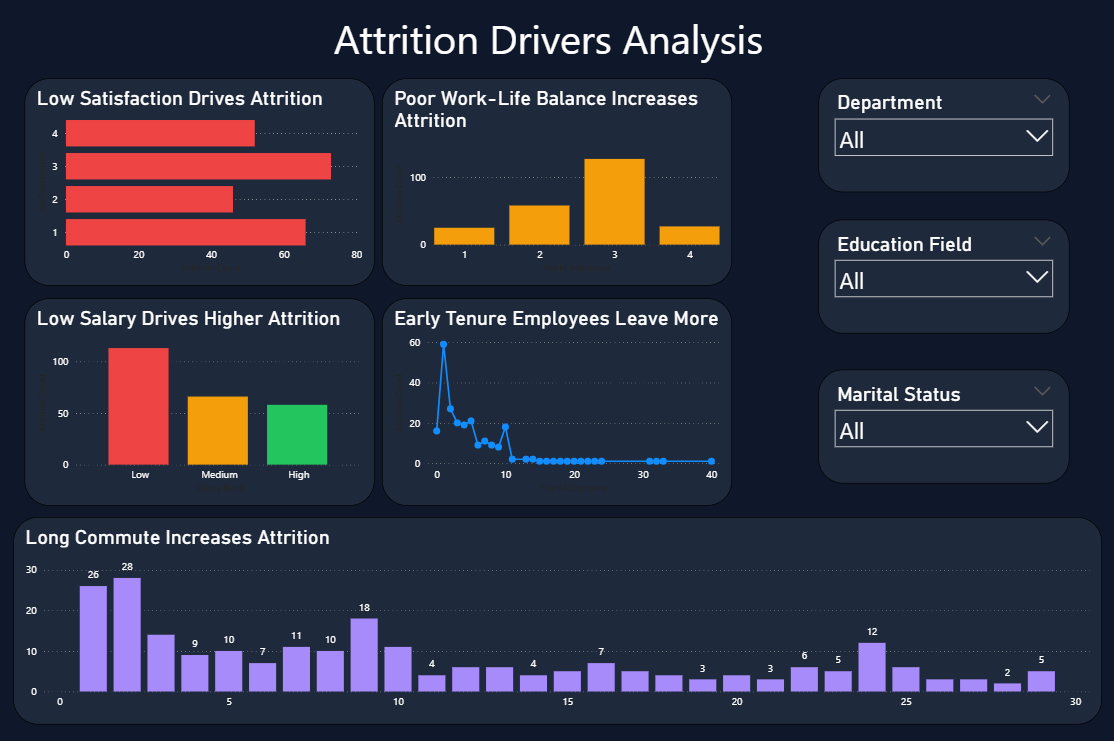

What the dashboard file says about the page in this screenshot:
{"tool":"powerbi","page":{"name":"Attrition Insights","canvas":[1350,900],"ordinal":1},"visuals":[{"type":"clusteredBarChart","title":"Low Satisfaction Drives Attrition","fields":{"Category":["IBM.JobSatisfaction"],"Y":["IBM.Attrition Count"]},"box":[33.2,98,422.3,250.3],"z":0},{"type":"columnChart","title":"Poor Work-Life Balance Increases Attrition","fields":{"Category":["IBM.WorkLifeBalance"],"Y":["IBM.Attrition Count"]},"box":[464.5,98,422.3,250.3],"z":1},{"type":"columnChart","title":"Low Salary Drives Higher Attrition","fields":{"Category":["IBM.Salary Band"],"Y":["IBM.Attrition Count"]},"box":[33.2,363.4,422.3,250.3],"z":2},{"type":"lineChart","title":"Early Tenure Employees Leave More","fields":{"Category":["IBM.YearsAtCompany"],"Y":["IBM.Attrition Count"]},"box":[464.5,363.4,422.3,250.3],"z":3},{"type":"columnChart","title":"Long Commute Increases Attrition","fields":{"Category":["IBM.DistanceFromHome"],"Y":["IBM.Attrition Count"]},"box":[19.6,627.3,1313.5,250.3],"z":4},{"type":"slicer","fields":{"Values":["IBM.Department"]},"box":[990.8,98,303.1,137.2],"z":5},{"type":"slicer","fields":{"Values":["IBM.EducationField"]},"box":[990.8,268.4,303.1,137.2],"z":6},{"type":"slicer","fields":{"Values":["IBM.MaritalStatus"]},"box":[990.8,449.4,303.1,137.2],"z":7},{"type":"textbox","box":[401.1,12.1,548.9,86],"z":8}]}

Visuals, with their boxes in screenshot pixels (x1, y1, x2, y2), scaled from the page's 1350x900 canvas onto the 1114x741 screenshot:
"Low Satisfaction Drives Attrition" clusteredBarChart: locate(27, 81, 376, 287)
"Poor Work-Life Balance Increases Attrition" columnChart: locate(383, 81, 732, 287)
"Low Salary Drives Higher Attrition" columnChart: locate(27, 299, 376, 505)
"Early Tenure Employees Leave More" lineChart: locate(383, 299, 732, 505)
"Long Commute Increases Attrition" columnChart: locate(16, 516, 1100, 723)
slicer - IBM.Department: locate(818, 81, 1068, 194)
slicer - IBM.EducationField: locate(818, 221, 1068, 334)
slicer - IBM.MaritalStatus: locate(818, 370, 1068, 483)
textbox: locate(331, 10, 784, 81)
